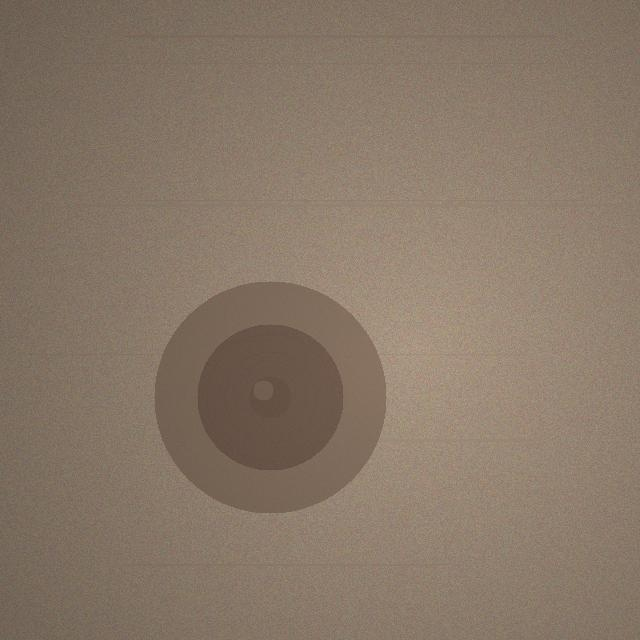good: (154, 281, 386, 513)
